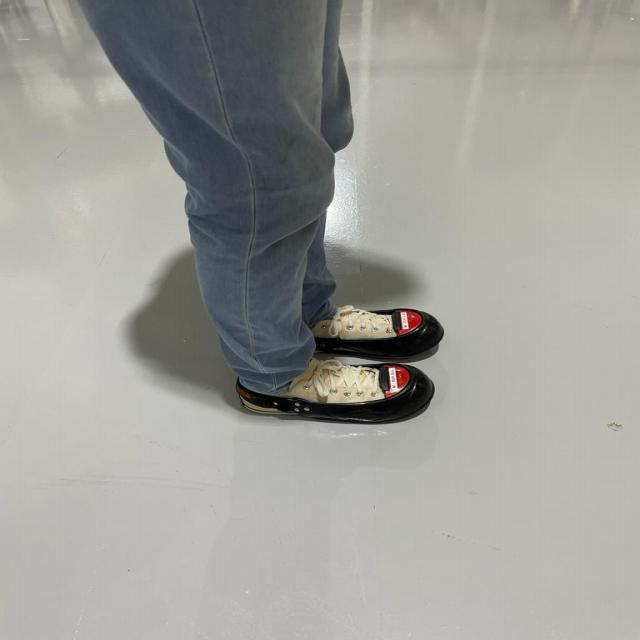shoes: (233, 363, 437, 422), (318, 302, 445, 359)
